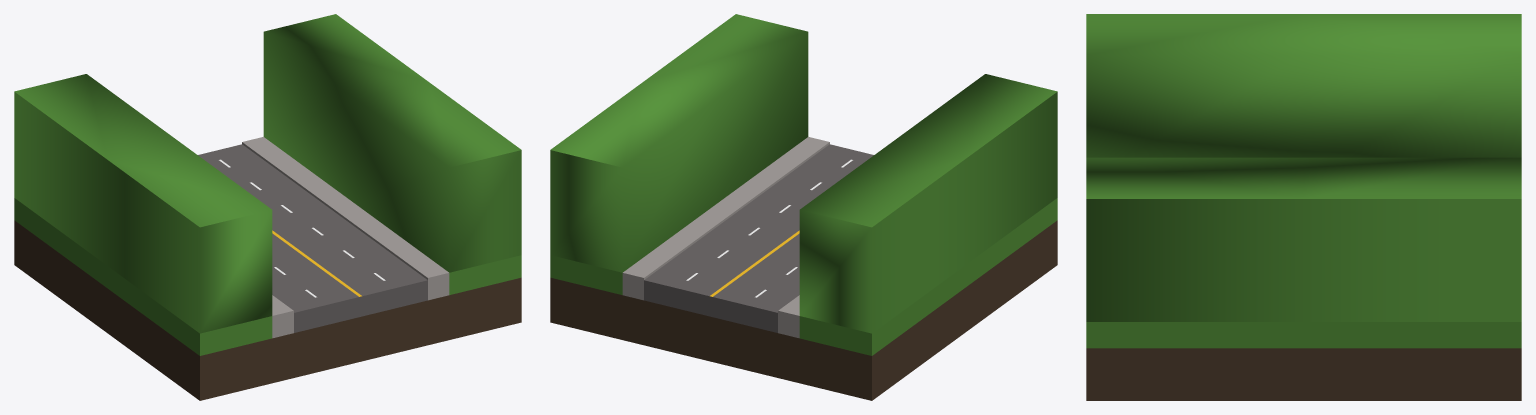
File: straightroad_edited.fbx
3 views of the same model, side by side, from view 1: azimuth 30°, elevation 25°; view 2: azimuth 150°, elevation 25°; view 3: azimuth 270°, elevation 25° (orthographic). The views are drawn at different scales.
Visible parts, largest first — view 1: tile-mainroad-straight, Right Wall, Left Wall; view 2: tile-mainroad-straight, Right Wall, Left Wall; view 3: Left Wall, Right Wall, tile-mainroad-straight.
Boxes of the visible parts, x1,y1,x2,y2 form: tile-mainroad-straight: (14,137,521,400); Right Wall: (14,74,272,333); Left Wall: (263,14,521,272); tile-mainroad-straight: (550,137,1057,400); Right Wall: (799,74,1057,333); Left Wall: (550,14,808,272); Left Wall: (1086,157,1521,321); Right Wall: (1086,14,1521,157); tile-mainroad-straight: (1086,322,1521,400).
Bounding box in the file's own units: 30 × 15.46 × 30.
